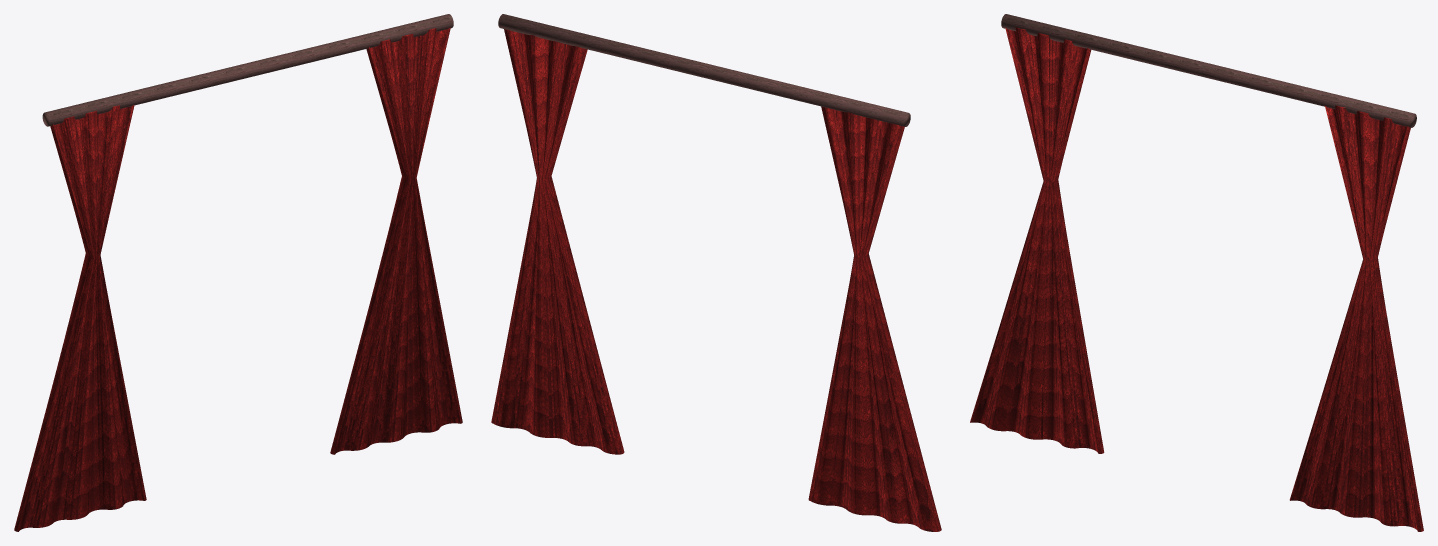
The model's file is curtain.obj.
3 renders of one model, left to right at view 1: azimuth 30°, elevation 25°; view 2: azimuth 150°, elevation 25°; view 3: azimuth 330°, elevation 25°, orthographic.
Visible parts, largest first — view 1: Mesh2 Model, Mesh1 Model, Mesh3 Model; view 2: Mesh1 Model, Mesh2 Model, Mesh3 Model; view 3: Mesh2 Model, Mesh1 Model, Mesh3 Model.
Part boxes in pixels (box(x1,y1,x2,y2)): Mesh2 Model: box(330, 27, 462, 454); Mesh1 Model: box(14, 105, 146, 531); Mesh3 Model: box(42, 14, 453, 126); Mesh1 Model: box(808, 106, 941, 531); Mesh2 Model: box(491, 29, 624, 454); Mesh3 Model: box(498, 14, 910, 126); Mesh2 Model: box(1289, 105, 1423, 531); Mesh1 Model: box(970, 27, 1104, 453); Mesh3 Model: box(1001, 14, 1416, 127).
Size of the model in its own units: 156 by 136 by 5.19.
